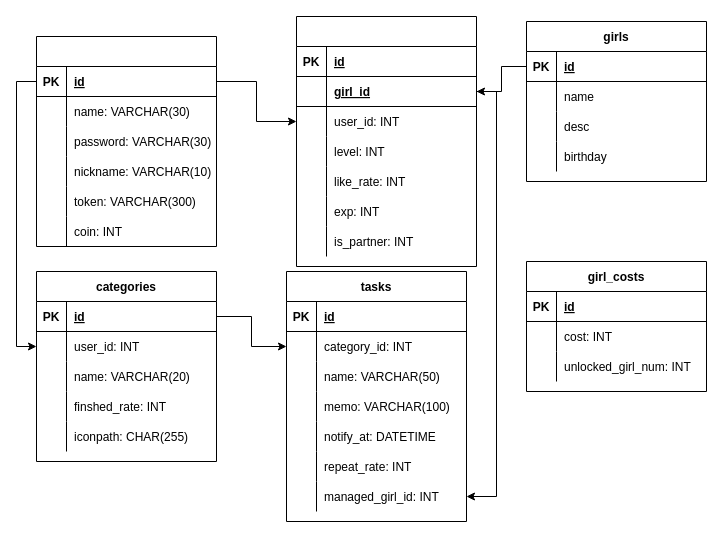
Some shapes in this 723 by 538 pixel diagram are drawn without their labels. The shapes that lost their labels are listed below. From the top down, each one's box as (x1, y1, x2, y2) in pixels, then its label:
(36, 36, 216, 246): users
(296, 16, 476, 266): user_girls
